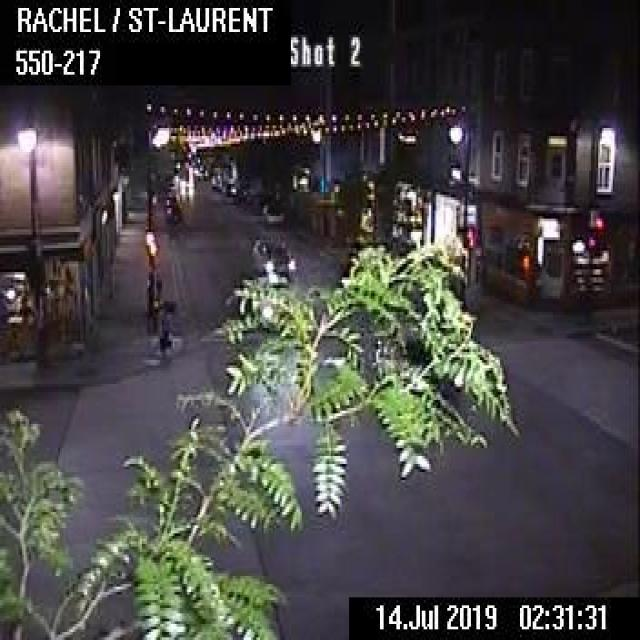pedestrian: (157, 295, 170, 346)
vehicle: (373, 312, 462, 405), (227, 278, 291, 334), (244, 232, 296, 277), (260, 200, 283, 223), (164, 201, 181, 220), (178, 185, 192, 198)
